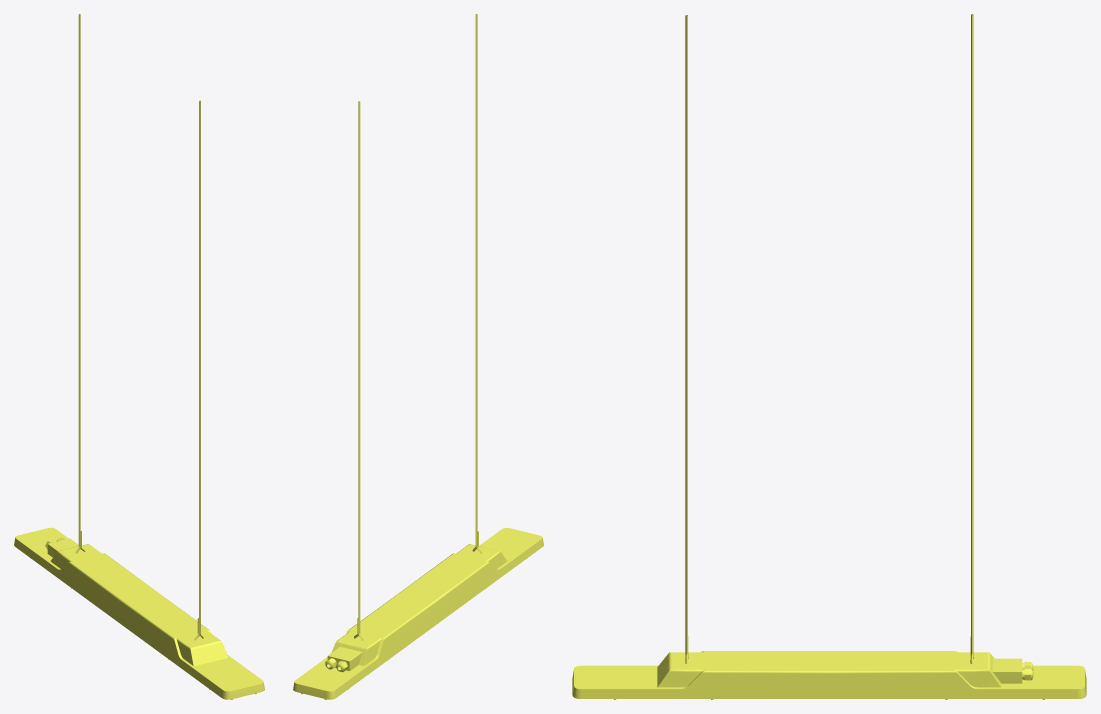
The model's file is light.glb.
3 renders of one model, left to right at view 1: azimuth 30°, elevation 25°; view 2: azimuth 150°, elevation 25°; view 3: azimuth 270°, elevation 25°, orthographic. The views are drawn at different scales.
Visible parts, largest first — view 1: Light_01; view 2: Light_01; view 3: Light_01.
Part boxes in pixels (x1,y1,x2,y2): Light_01: (14, 14, 264, 699); Light_01: (293, 14, 543, 699); Light_01: (572, 14, 1086, 699).
Size of the model in its own units: 0.2966 by 3.8 by 2.62.
